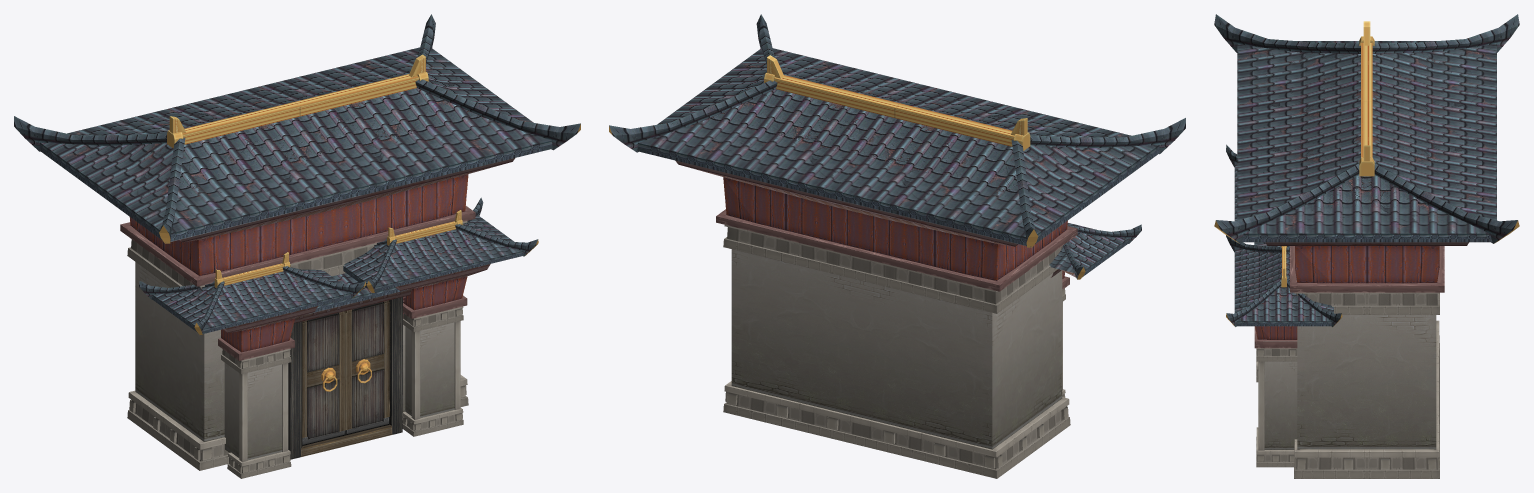
Rendered from mod_zlc_jianzhu040_xy.FBX.
3 views of the same model, side by side, from view 1: azimuth 30°, elevation 25°; view 2: azimuth 150°, elevation 25°; view 3: azimuth 270°, elevation 25° (orthographic).
Parts seen in each view (by area): view 1: mod_zlc_jianzhu040_xy; view 2: mod_zlc_jianzhu040_xy; view 3: mod_zlc_jianzhu040_xy.
Part boxes in pixels (box(x1,y1,x2,y2)): mod_zlc_jianzhu040_xy: box(14, 14, 580, 478); mod_zlc_jianzhu040_xy: box(609, 14, 1185, 478); mod_zlc_jianzhu040_xy: box(1214, 14, 1519, 478).
Size of the model in its own units: 1455 by 1073 by 903.
5 materials, 5 textured.
